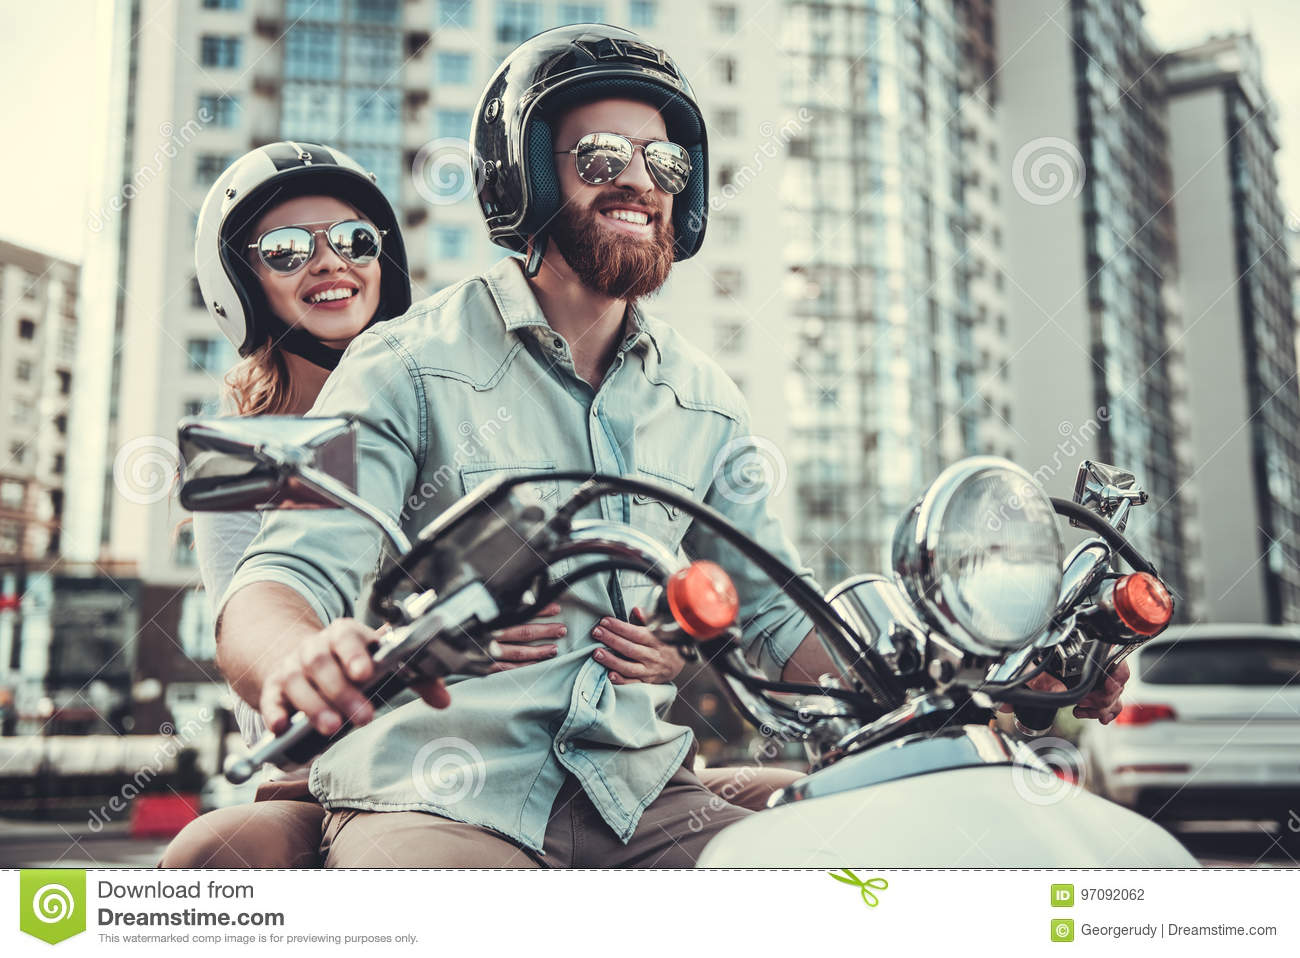helmet: (460, 38, 736, 245), (179, 144, 411, 320)
